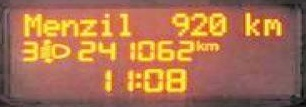0: (205, 10, 226, 36), (141, 66, 161, 92), (133, 37, 154, 61)
1: (96, 67, 111, 92), (118, 66, 133, 91), (121, 39, 133, 63)
2: (75, 38, 95, 61), (174, 38, 193, 61), (190, 10, 206, 36)
3: (18, 38, 36, 61)
4: (96, 39, 116, 60)
6: (154, 37, 173, 61)
8: (163, 66, 186, 93)
9: (168, 11, 188, 35)
X: (239, 7, 258, 36), (20, 11, 40, 38), (113, 10, 131, 36), (96, 10, 113, 36), (260, 16, 280, 36), (39, 16, 58, 36), (58, 17, 78, 36), (78, 17, 98, 36), (131, 70, 141, 89), (203, 40, 218, 51), (193, 36, 203, 51)
